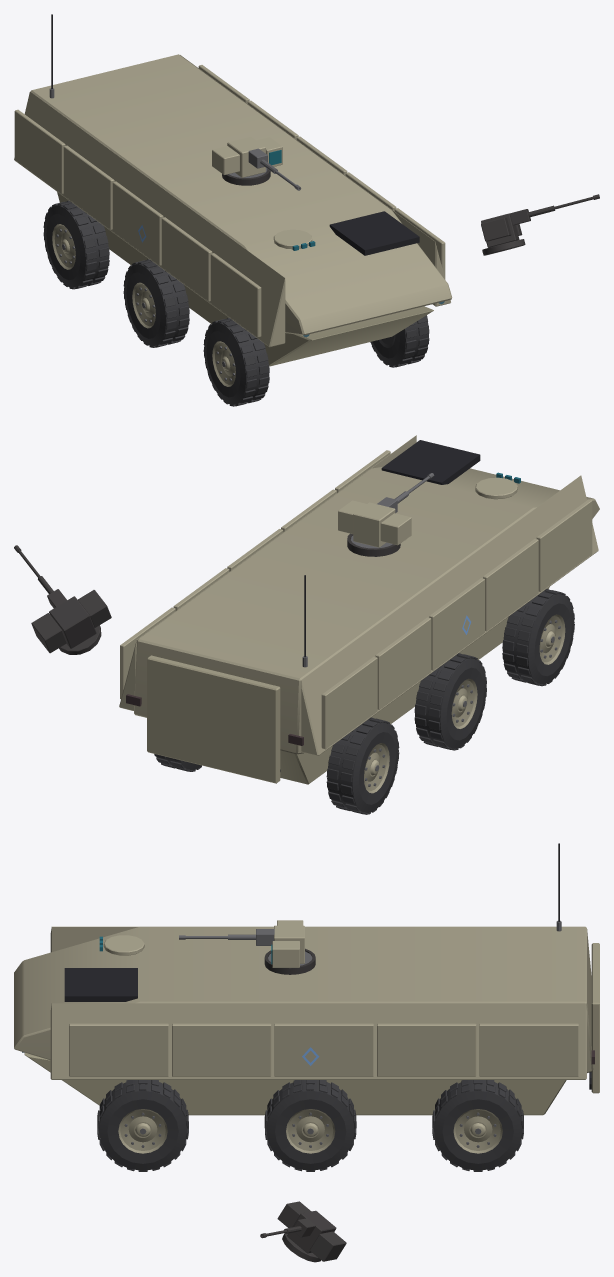
The model's file is apc__vbtp_guarani.glb.
The picture shows the model from 3 angles, top to bottom: view 1: azimuth 30°, elevation 25°; view 2: azimuth 150°, elevation 25°; view 3: azimuth 270°, elevation 25°; orthographic projection. The views are drawn at different scales.
Visible parts, largest first — view 1: Hull_Mesh, Wheel_L0_Mesh, Wheel_L2_Mesh, Wheel_L1_Mesh, Wreck, Turret_Mesh, Wheel_R2_Mesh; view 2: Hull_Mesh, Wheel_L2_Mesh, Wheel_L0_Mesh, Wheel_L1_Mesh, Wreck, Turret_Mesh; view 3: Hull_Mesh, Wheel_R2_Mesh, Wheel_R1_Mesh, Wheel_R0_Mesh, Wreck, Turret_Mesh, Gun_Mesh.
Part boxes in pixels (<box>): Hull_Mesh: <box>14,14,452,366</box>; Wheel_L0_Mesh: <box>43,200,109,289</box>; Wheel_L2_Mesh: <box>203,318,269,406</box>; Wheel_L1_Mesh: <box>123,259,189,347</box>; Wreck: <box>77,169,599,405</box>; Turret_Mesh: <box>212,136,282,177</box>; Wheel_R2_Mesh: <box>370,315,429,367</box>; Hull_Mesh: <box>119,435,599,784</box>; Wheel_L2_Mesh: <box>502,589,574,686</box>; Wheel_L0_Mesh: <box>326,717,399,814</box>; Wheel_L1_Mesh: <box>414,653,486,750</box>; Wreck: <box>14,533,548,795</box>; Turret_Mesh: <box>338,500,411,548</box>; Hull_Mesh: <box>14,843,599,1115</box>; Wheel_R2_Mesh: <box>97,1080,188,1171</box>; Wheel_R1_Mesh: <box>264,1080,356,1171</box>; Wheel_R0_Mesh: <box>432,1080,523,1171</box>; Wreck: <box>153,948,494,1262</box>; Turret_Mesh: <box>268,920,312,967</box>; Gun_Mesh: <box>179,929,274,945</box>.
Size of what is drawn, in the model's own units: 6.43 by 3.35 by 7.17.
